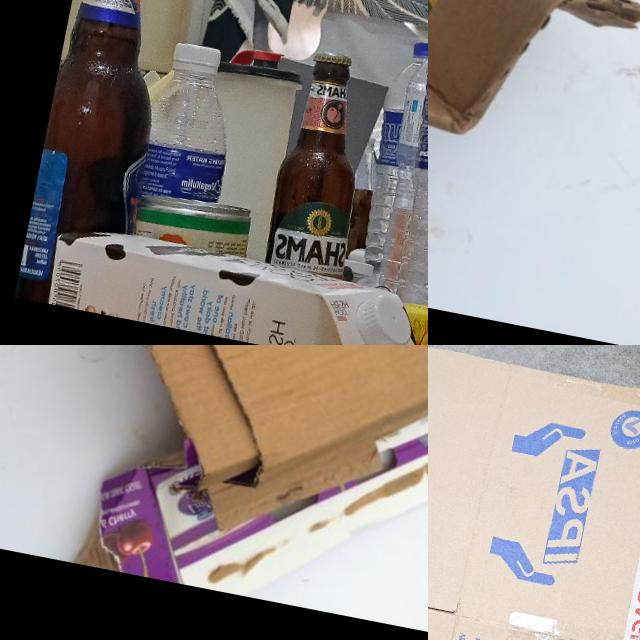caixinha: (44, 219, 428, 345), (389, 298, 428, 345)
garrafa de vidro: (14, 0, 187, 316), (260, 48, 384, 276)
garrafa plástica: (132, 64, 242, 214), (354, 53, 428, 267), (384, 0, 428, 315)
lata: (133, 187, 254, 257)
papelão: (0, 345, 428, 640), (428, 345, 640, 640), (428, 0, 640, 278)
tampa plástica: (350, 290, 417, 345), (172, 42, 222, 74), (413, 40, 428, 59)
